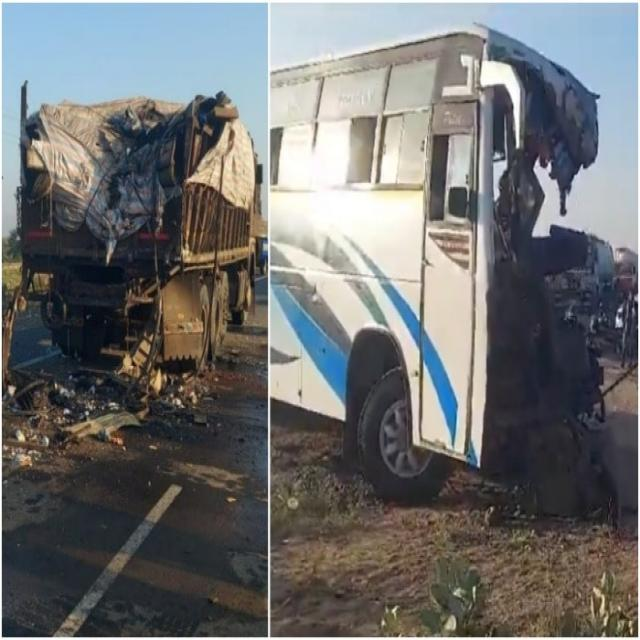accident: (270, 24, 619, 514), (2, 83, 261, 372)
